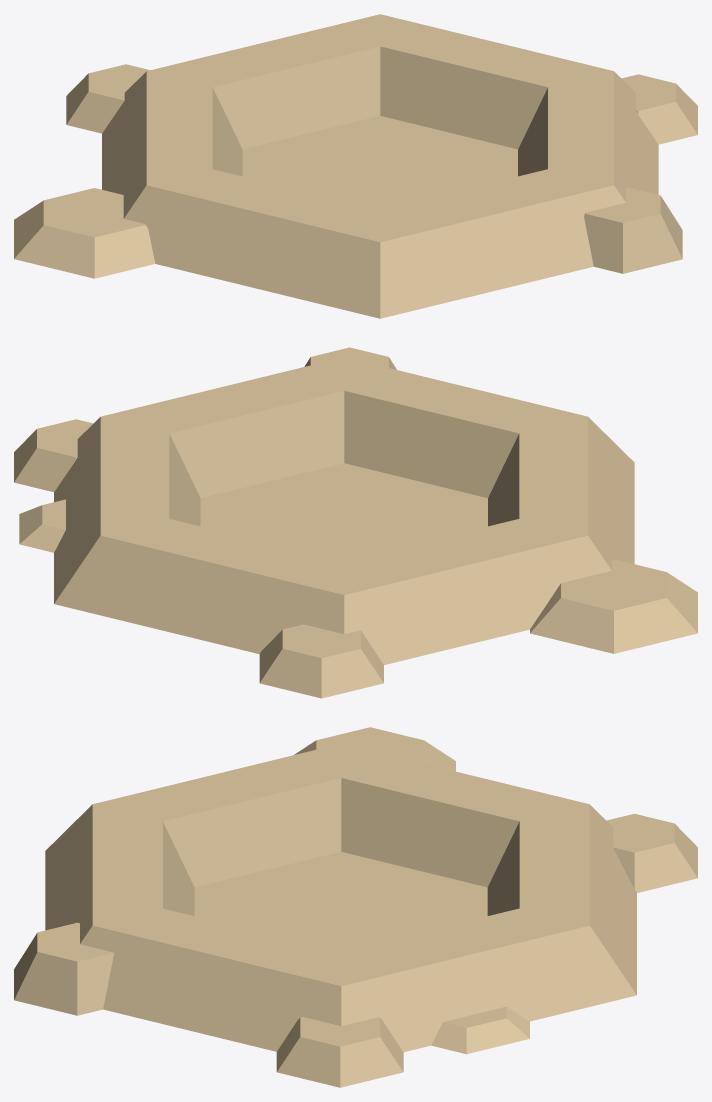
Rendered from hole.fbx.
The picture shows the model from 3 angles, top to bottom: view 1: azimuth 30°, elevation 25°; view 2: azimuth 150°, elevation 25°; view 3: azimuth 270°, elevation 25°; orthographic projection. The views are drawn at different scales.
Visible parts, largest first — view 1: hole; view 2: hole; view 3: hole.
Part boxes in pixels (x1,y1,x2,y2): hole: [14, 14, 697, 318]; hole: [14, 347, 697, 698]; hole: [14, 727, 697, 1087].
Bounding box in the file's own units: 10.23 × 0.8 × 8.51.
